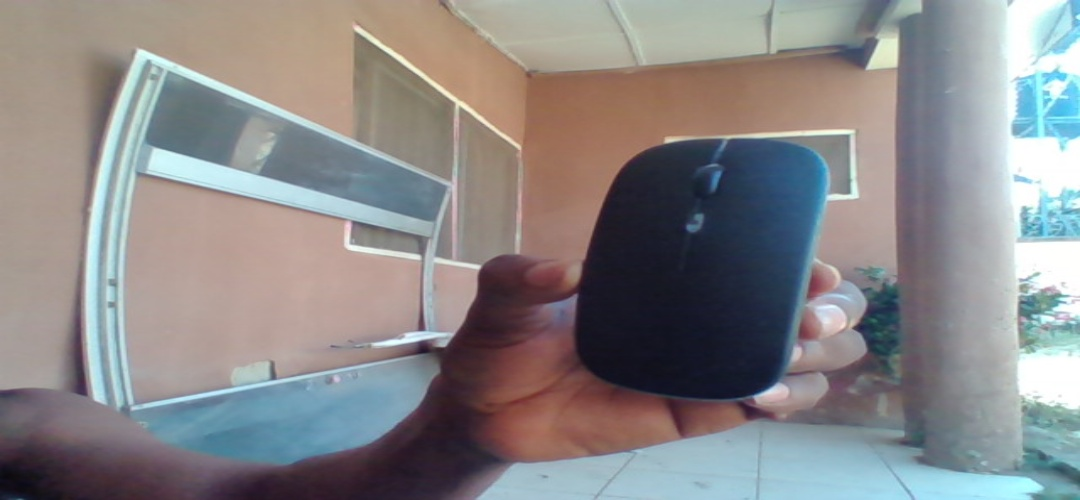wireless_mouse: (572, 120, 831, 407)
